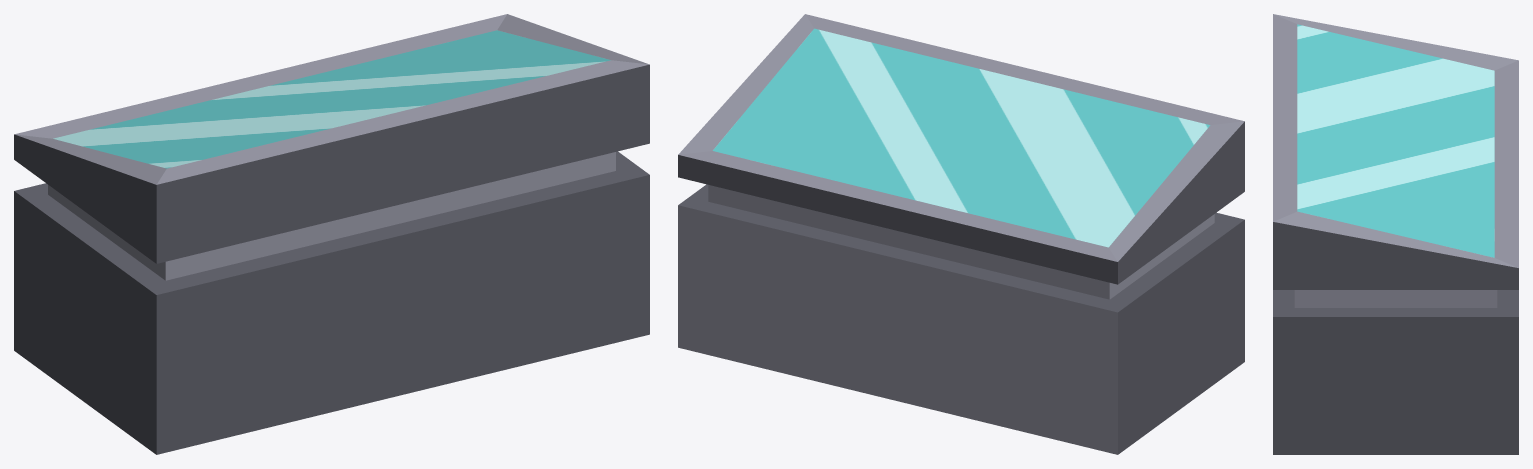
File: MiniFreezer.fbx
3 renders of one model, left to right at view 1: azimuth 30°, elevation 25°; view 2: azimuth 150°, elevation 25°; view 3: azimuth 270°, elevation 25°, orthographic. The views are drawn at different scales.
Visible parts, largest first — view 1: MiniFreezer; view 2: MiniFreezer; view 3: MiniFreezer.
Boxes of the visible parts, <box> form: MiniFreezer: <box>14,14,649,454</box>; MiniFreezer: <box>678,14,1244,454</box>; MiniFreezer: <box>1273,14,1518,454</box>.
Bounding box in the file's own units: 144 × 75.33 × 72.
